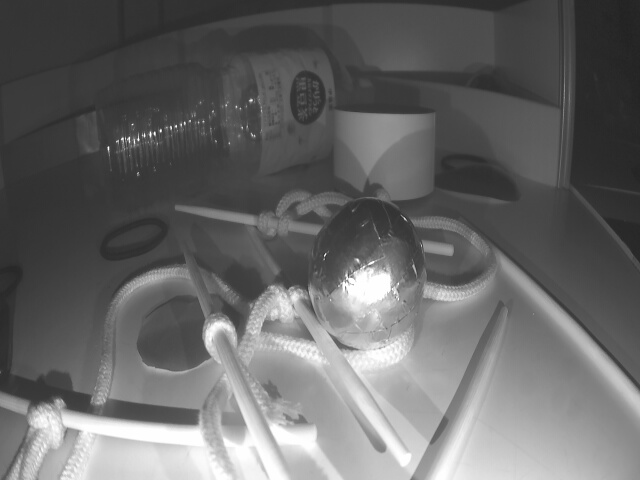Live: (305, 199, 426, 355)
Point: (352, 64, 555, 189), (3, 102, 145, 192)
